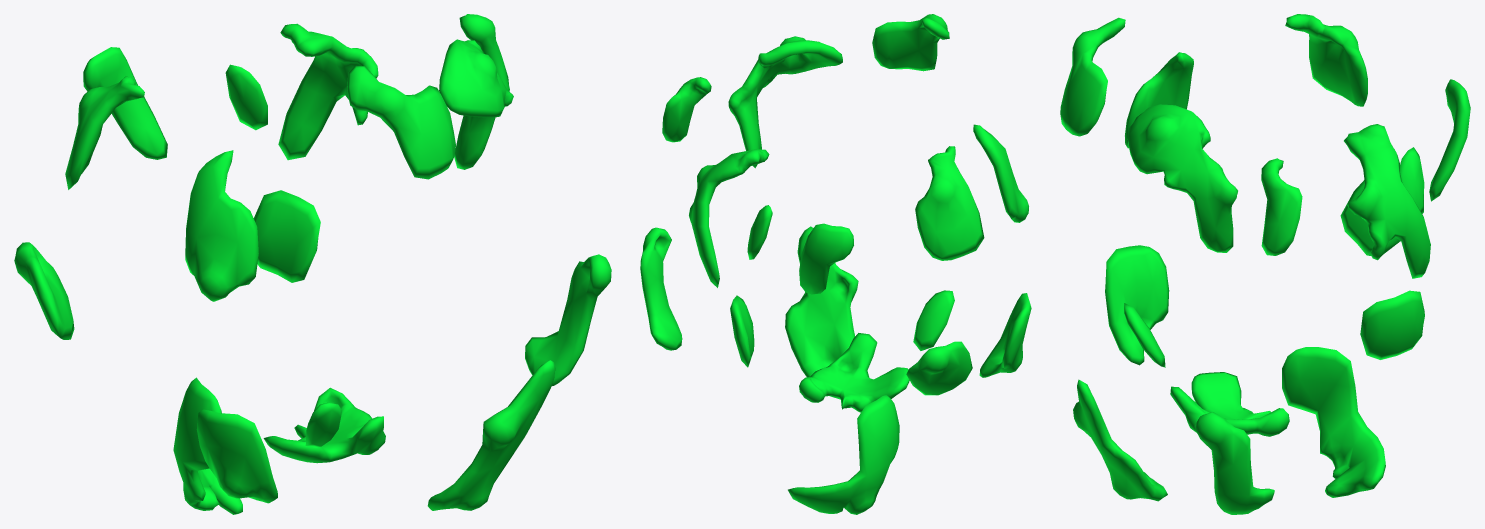
Rendered from bacteriaWaste.obj.
3 renders of one model, left to right at view 1: azimuth 30°, elevation 25°; view 2: azimuth 150°, elevation 25°; view 3: azimuth 270°, elevation 25°, orthographic. The views are drawn at different scales.
Parts seen in each view (by area): view 1: Mesh008, Mesh003, Mesh009, Mesh002, Mesh004, Mesh005, Object002, Mesh011, Mesh013, Sphere001, Object001, Mesh007 (+4 smaller); view 2: Mesh002, Mesh013, Mesh007, Sphere001, Mesh004, Mesh003, Mesh009, Mesh011, Object001, Mesh010, Mesh005, Mesh008 (+4 smaller); view 3: Mesh013, Mesh004, Mesh009, Mesh005, Mesh011, Mesh007, Sphere001, Mesh003, Mesh002, Object002, Mesh001, Mesh008 (+4 smaller).
Part boxes in pixels (x1=…): Mesh008: x1=185, y1=150, x2=258, y2=301; Mesh003: x1=347, y1=65, x2=455, y2=179; Mesh009: x1=278, y1=23, x2=378, y2=160; Mesh002: x1=427, y1=360, x2=555, y2=510; Mesh004: x1=439, y1=39, x2=513, y2=169; Mesh005: x1=196, y1=409, x2=277, y2=503; Object002: x1=253, y1=190, x2=320, y2=282; Mesh011: x1=525, y1=254, x2=611, y2=385; Mesh013: x1=173, y1=377, x2=242, y2=514; Sphere001: x1=263, y1=387, x2=385, y2=463; Object001: x1=83, y1=47, x2=167, y2=159; Mesh007: x1=65, y1=76, x2=144, y2=189; Mesh002: x1=785, y1=226, x2=858, y2=377; Mesh013: x1=788, y1=395, x2=899, y2=514; Mesh007: x1=915, y1=146, x2=984, y2=260; Sphere001: x1=799, y1=333, x2=909, y2=412; Mesh004: x1=728, y1=36, x2=842, y2=168; Mesh003: x1=872, y1=14, x2=949, y2=71; Mesh009: x1=689, y1=149, x2=769, y2=287; Mesh011: x1=640, y1=227, x2=682, y2=350; Object001: x1=799, y1=223, x2=853, y2=294; Mesh010: x1=906, y1=341, x2=972, y2=395; Mesh005: x1=979, y1=293, x2=1031, y2=377; Mesh008: x1=973, y1=124, x2=1028, y2=222; Mesh013: x1=1282, y1=347, x2=1385, y2=497; Mesh004: x1=1127, y1=104, x2=1237, y2=252; Mesh009: x1=1344, y1=124, x2=1430, y2=278; Mesh005: x1=1105, y1=245, x2=1169, y2=365; Mesh011: x1=1194, y1=412, x2=1274, y2=514; Mesh007: x1=1285, y1=14, x2=1367, y2=106; Sphere001: x1=1170, y1=372, x2=1289, y2=436; Mesh003: x1=1060, y1=17, x2=1125, y2=136; Mesh002: x1=1073, y1=379, x2=1167, y2=501; Object002: x1=1360, y1=290, x2=1424, y2=359; Mesh001: x1=1261, y1=158, x2=1302, y2=255; Mesh008: x1=1125, y1=52, x2=1193, y2=148.
Size of the model in its own units: 33.22 by 34.64 by 26.85.
